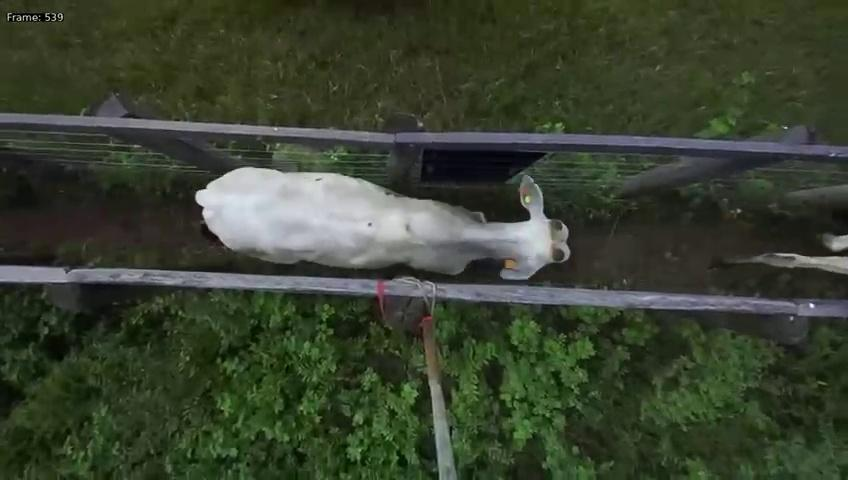cattle: (170, 151, 572, 281)
